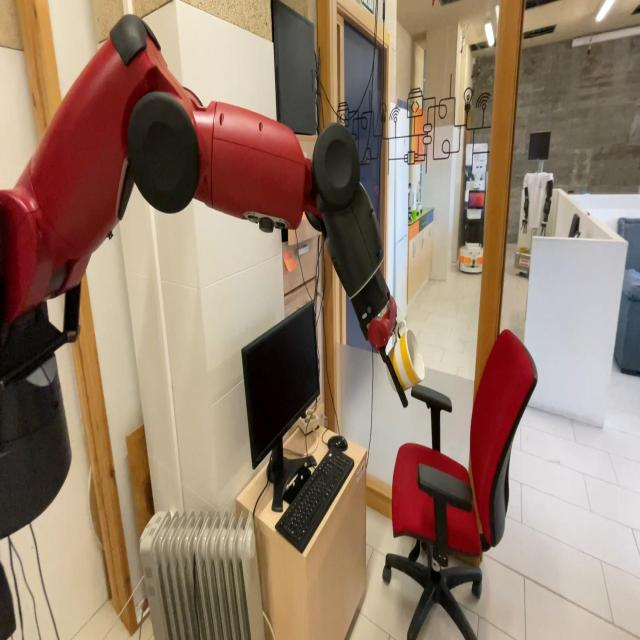cup: (384, 323, 425, 396)
